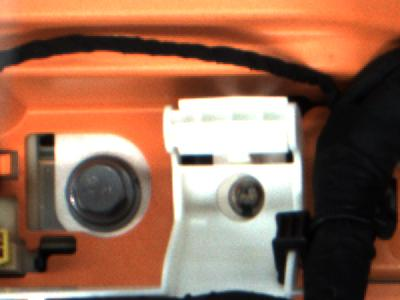nut_b: (59, 152, 145, 236)
screw_m: (223, 173, 274, 222)
